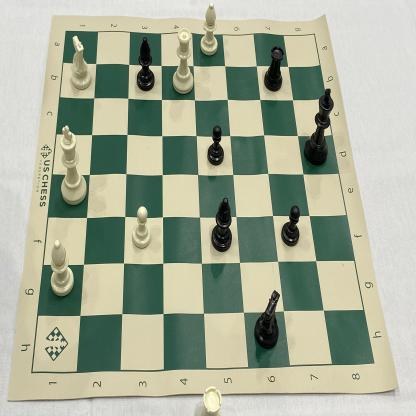black-bishop: (209, 194, 236, 258), (132, 29, 158, 94)
black-king: (301, 81, 338, 170)
black-knight: (251, 284, 286, 351)
black-pawn: (279, 204, 303, 250), (205, 122, 227, 170)
black-rook: (259, 40, 288, 99)
white-bishop: (46, 233, 80, 299), (198, 0, 221, 58)
white-king: (54, 117, 92, 210)
white-knight: (65, 28, 98, 93)
white-pawn: (128, 201, 154, 250)
white-queen: (170, 24, 199, 100)
